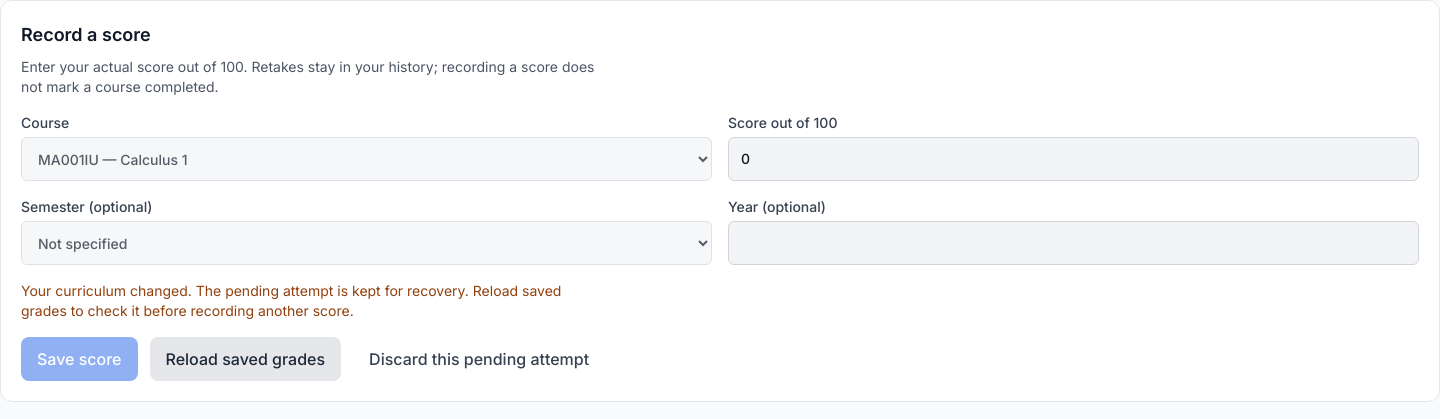
Scenario: numeric grade entry › lets a blocked pending attempt be discarded so the tab is usable again
Check: the text "Your curriculum changed. The pending attempt is kept for recovery" is shown, box [21, 282, 561, 319]
Check: the button "Save score" is disabled, box [21, 337, 138, 381]
Click the button "Discard this pending attempt": (479,359) [353, 337, 605, 381]
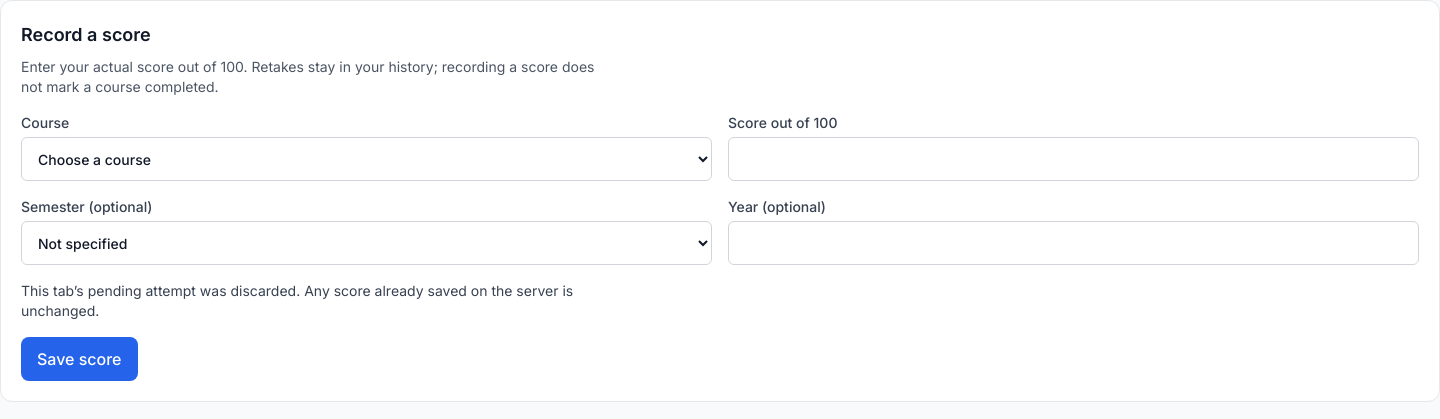
Check: the message shows "This tab’s pending attempt was discarded. Any score already saved on the server is unchanged.", box [21, 282, 573, 319]
Check: the button "Save score" is enabled, box [21, 337, 138, 381]
Check: the button "Discard this pending attempt" is gone
